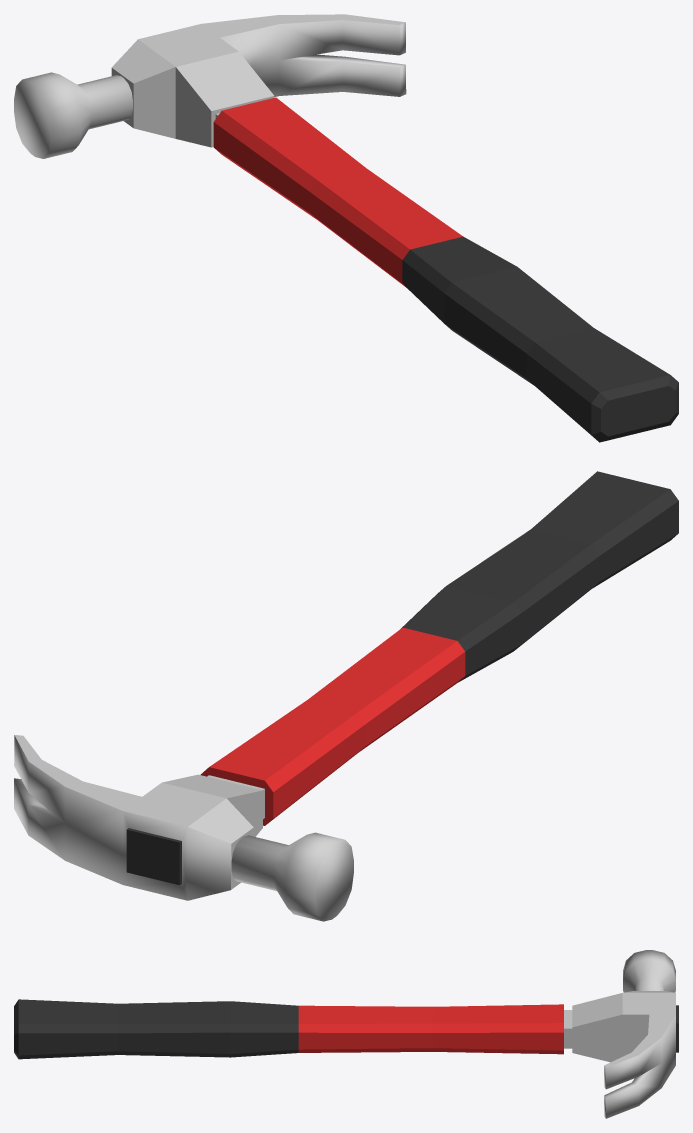
Rendered from hammer.glb.
3 views of the same model, one above another, from view 1: azimuth 30°, elevation 25°; view 2: azimuth 150°, elevation 25°; view 3: azimuth 270°, elevation 25° (orthographic). The views are drawn at different scales.
Parts seen in each view (by area): view 1: Hammer; view 2: Hammer; view 3: Hammer.
Boxes of the visible parts, x1,y1,x2,y2 form: Hammer: [14, 14, 678, 442]; Hammer: [14, 471, 678, 921]; Hammer: [14, 950, 678, 1118].
Size of the model in its own units: 0.153 by 0.0307 by 0.3643.
1 material, 1 textured.
